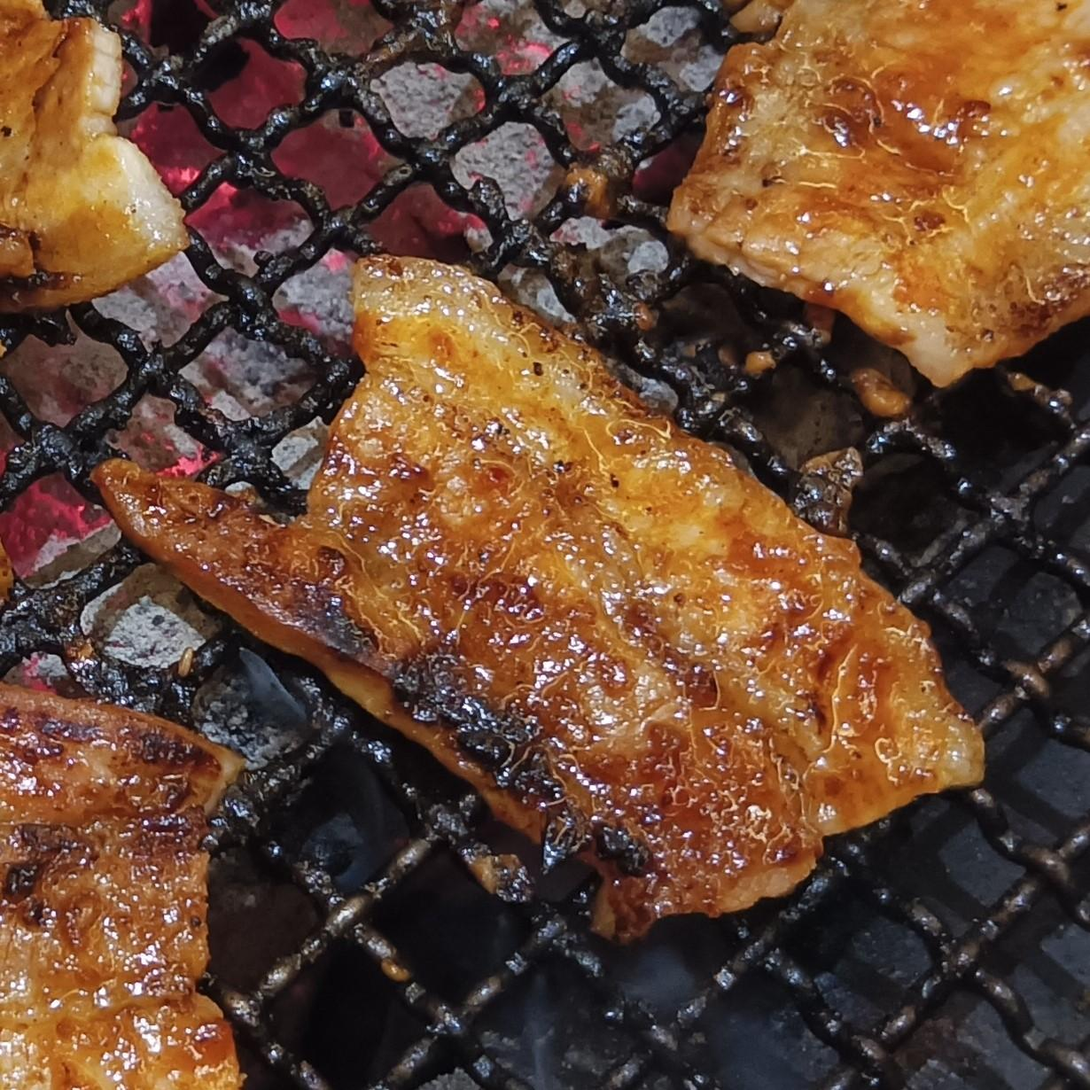Overcooked: (95, 256, 984, 940), (0, 683, 241, 1089)
